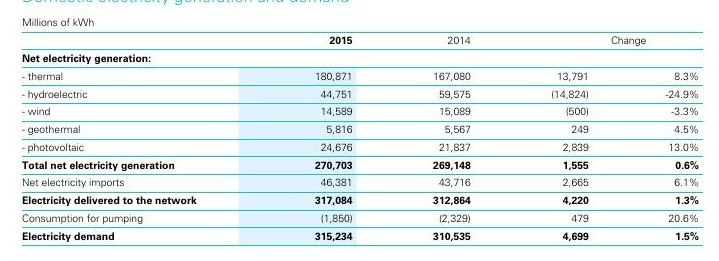table: (0, 0, 719, 261)
